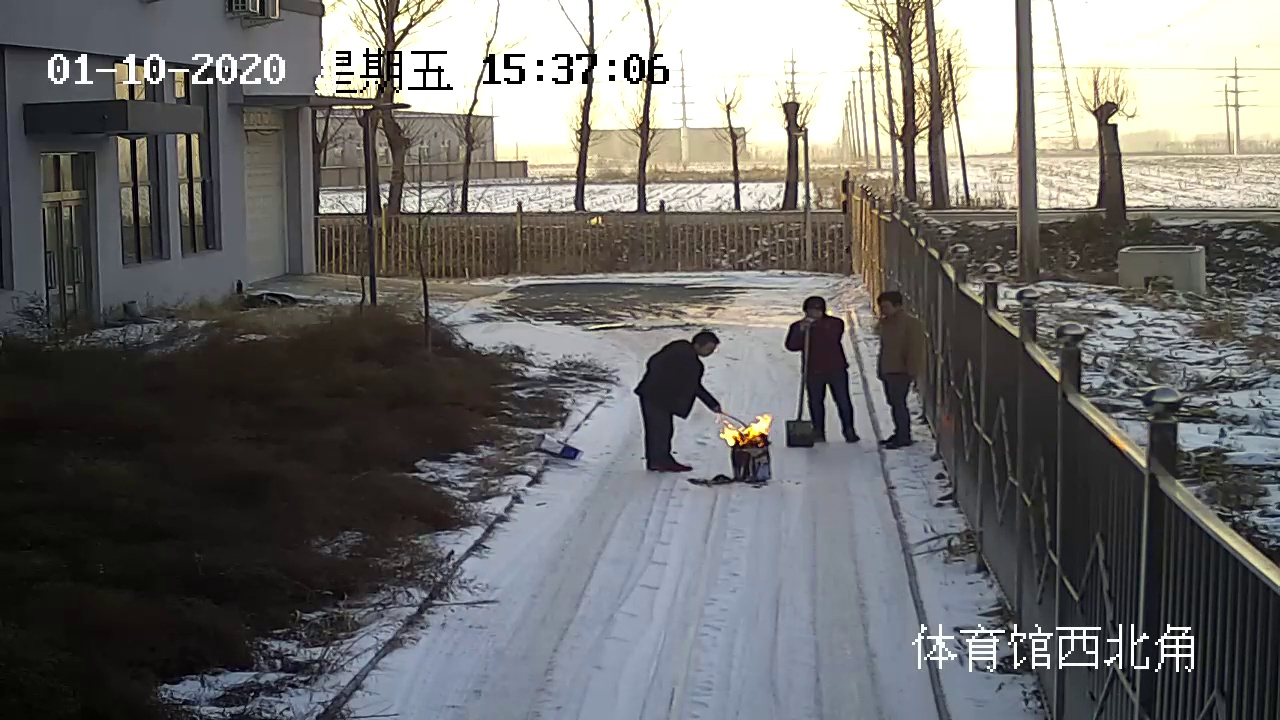fire: (718, 406, 780, 450)
